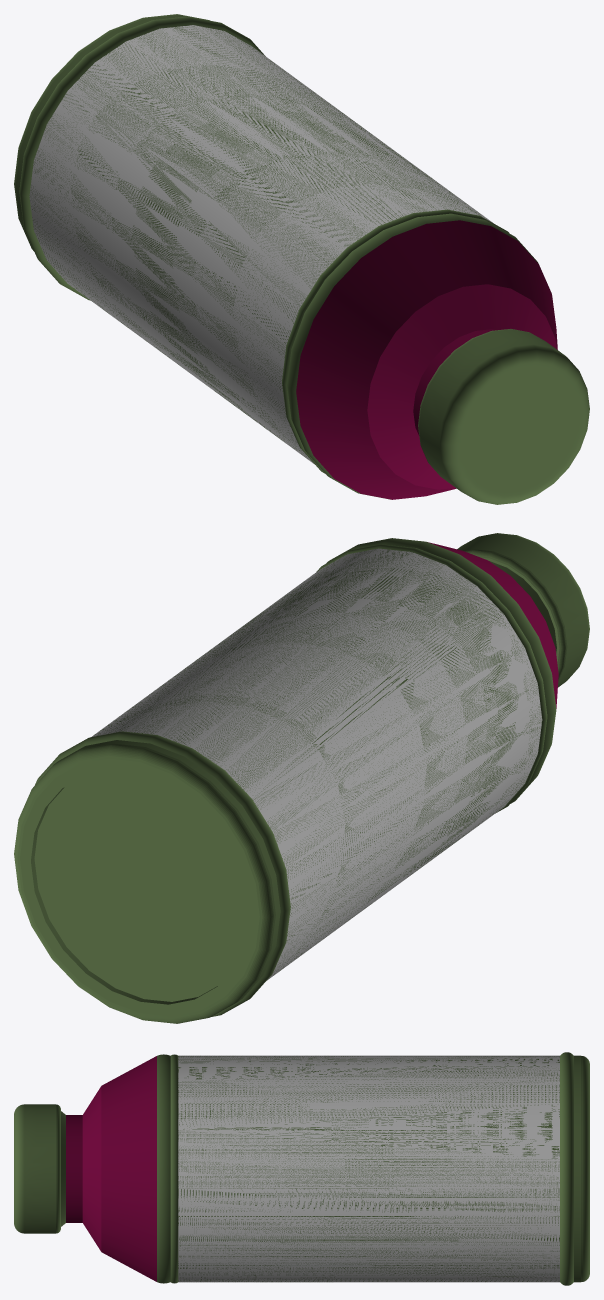
The model's file is model_align.obj.
3 renders of one model, top to bottom at view 1: azimuth 30°, elevation 25°; view 2: azimuth 150°, elevation 25°; view 3: azimuth 270°, elevation 25°, orthographic. The views are drawn at different scales.
Parts seen in each view (by area): view 1: mesh1_mesh1-geometry; view 2: mesh1_mesh1-geometry; view 3: mesh1_mesh1-geometry.
Part boxes in pixels (x1,y1,x2,y2): mesh1_mesh1-geometry: [14, 14, 589, 504]; mesh1_mesh1-geometry: [14, 533, 589, 1023]; mesh1_mesh1-geometry: [14, 1052, 589, 1285].
Size of the model in its own units: 0.0752 by 0.0752 by 0.1847.
